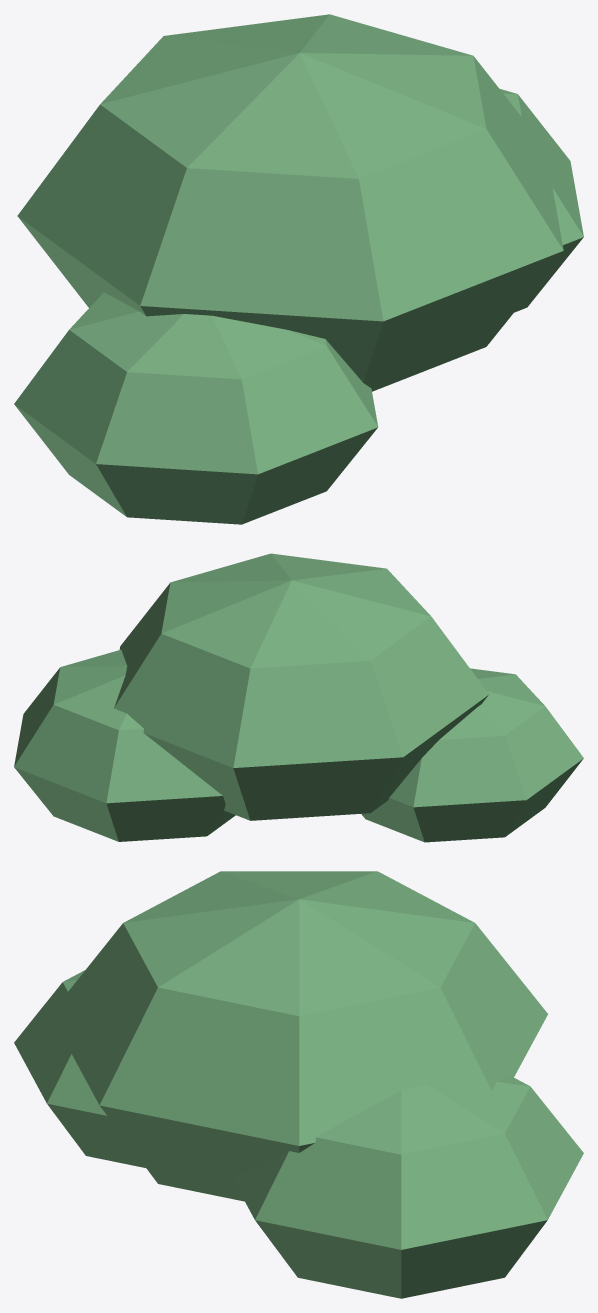
File: town_bush.glb
3 renders of one model, top to bottom at view 1: azimuth 30°, elevation 25°; view 2: azimuth 150°, elevation 25°; view 3: azimuth 270°, elevation 25°, orthographic. The views are drawn at different scales.
Visible parts, largest first — view 1: world; view 2: world; view 3: world.
Boxes of the visible parts, x1,y1,x2,y2 form: world: (14,14,583,524); world: (14,553,583,842); world: (14,871,583,1298).
Size of the model in its own units: 2 by 1.08 by 1.72.
